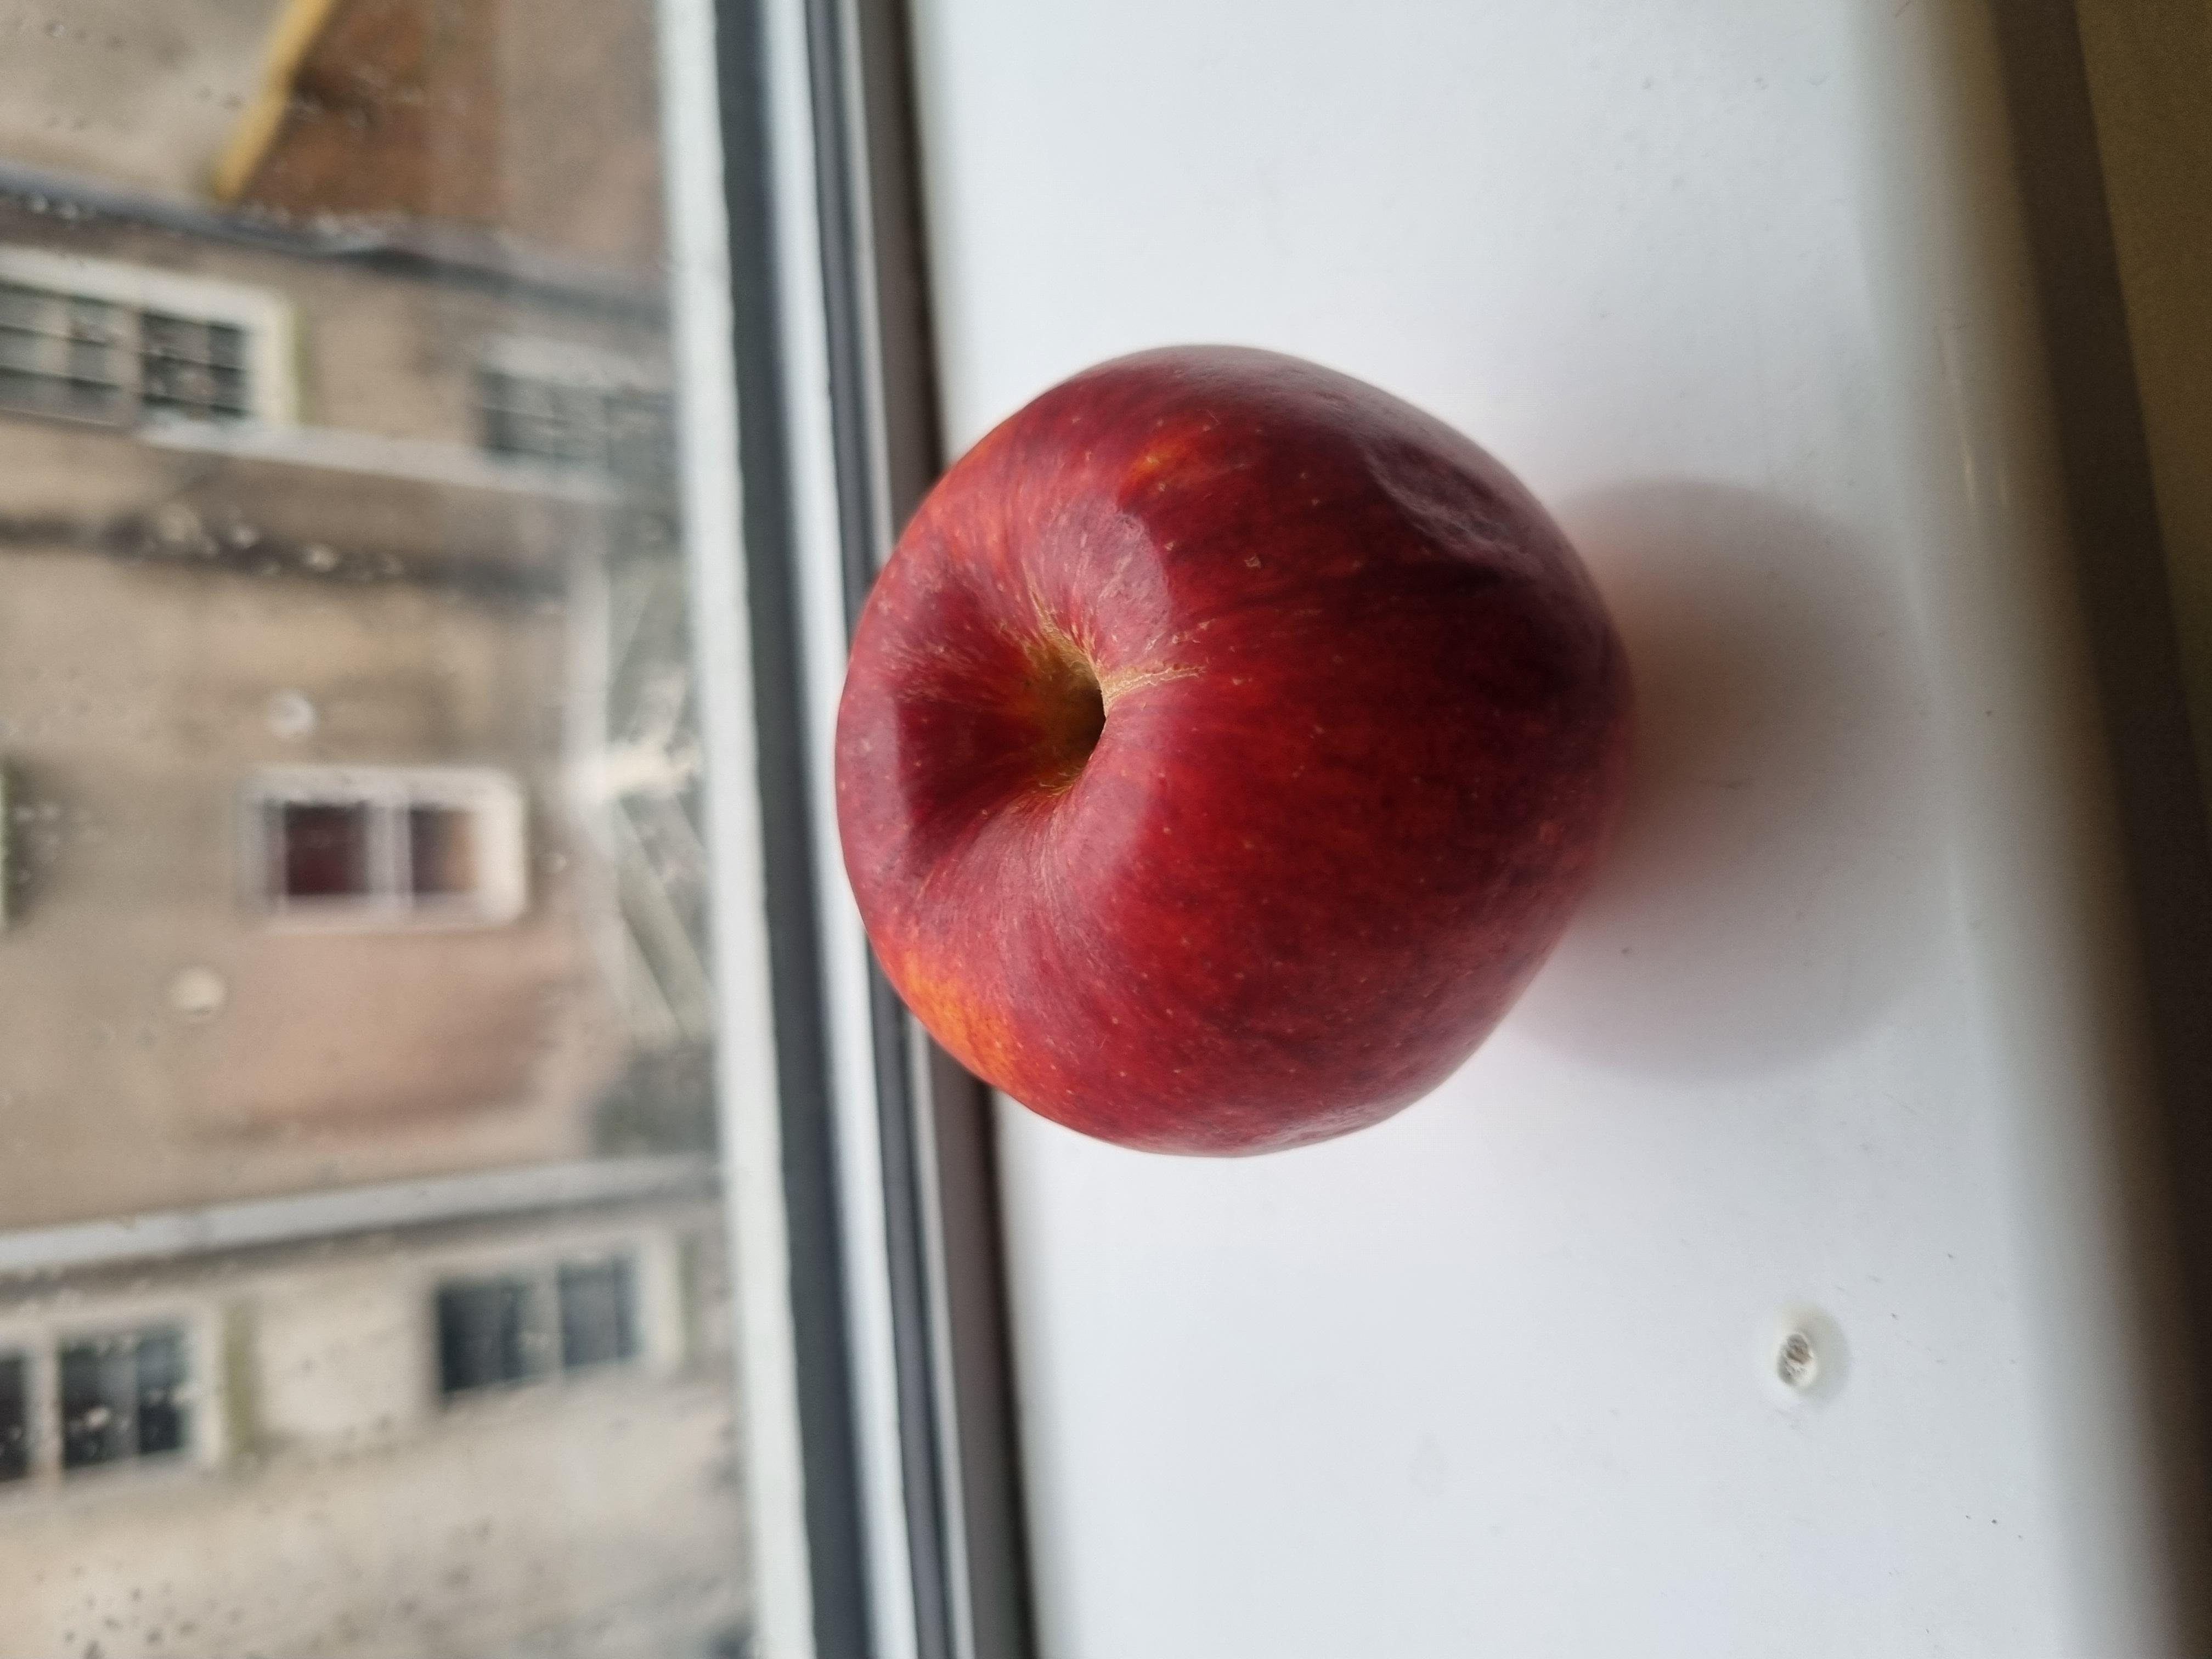Apple: (641, 610, 1787, 1239)
